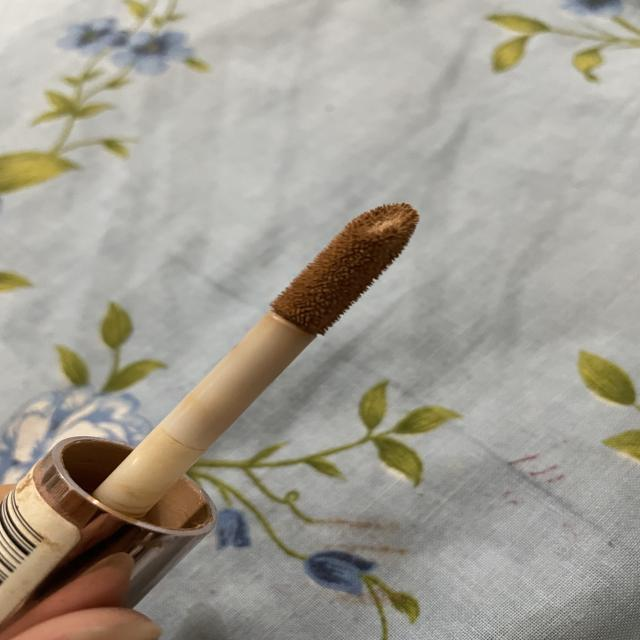concealer: (0, 167, 479, 640), (234, 180, 468, 347)
